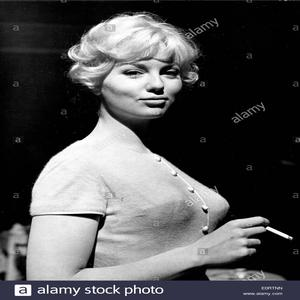cigarette: (264, 223, 295, 244)
